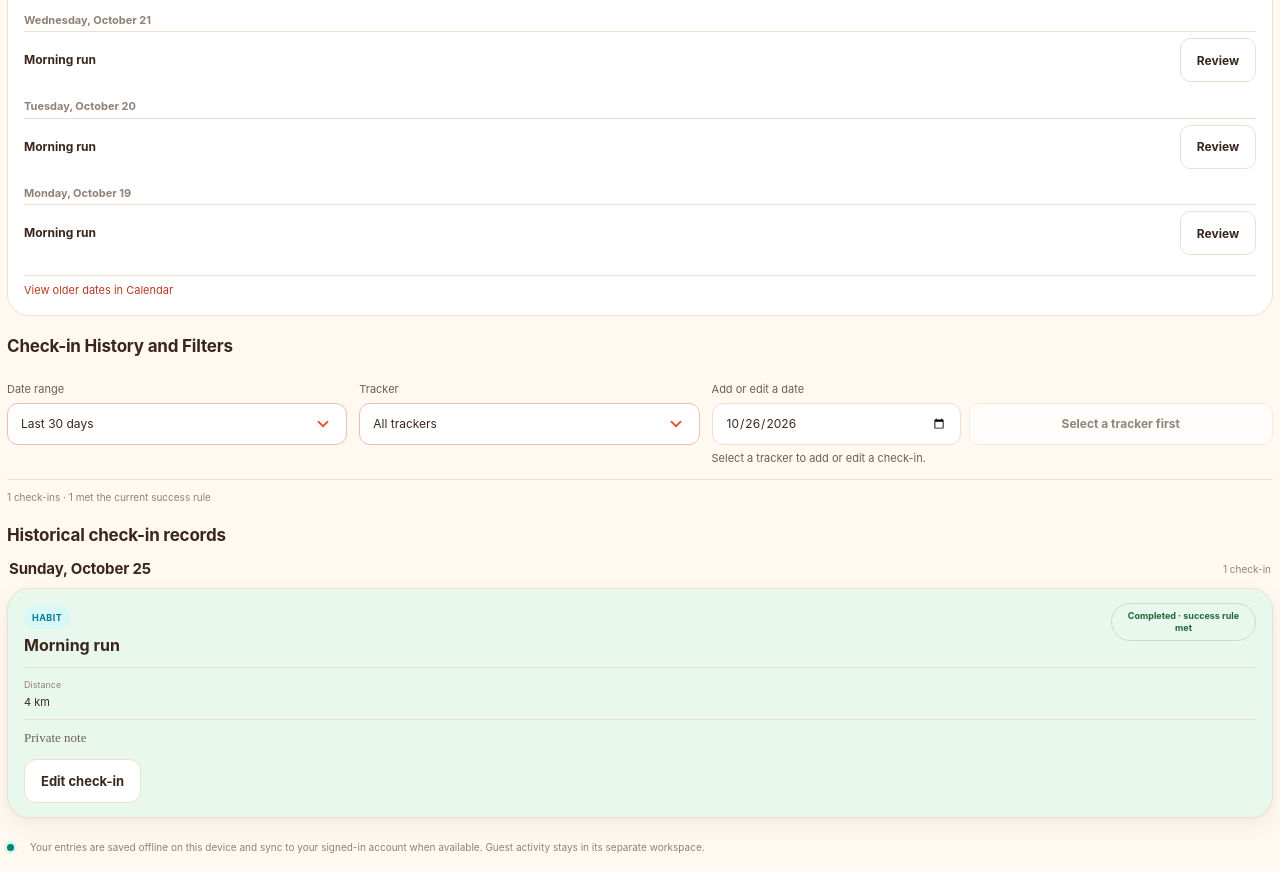
Test case: local check-in history › requires confirmation to clear history and restores the date to the missing review without exposing values or notes
(page scrolled)
Click the button with aria-label "Edit check-in for" at (83, 781), box x1=24 y1=759 x2=141 y2=803
(page scrolled)
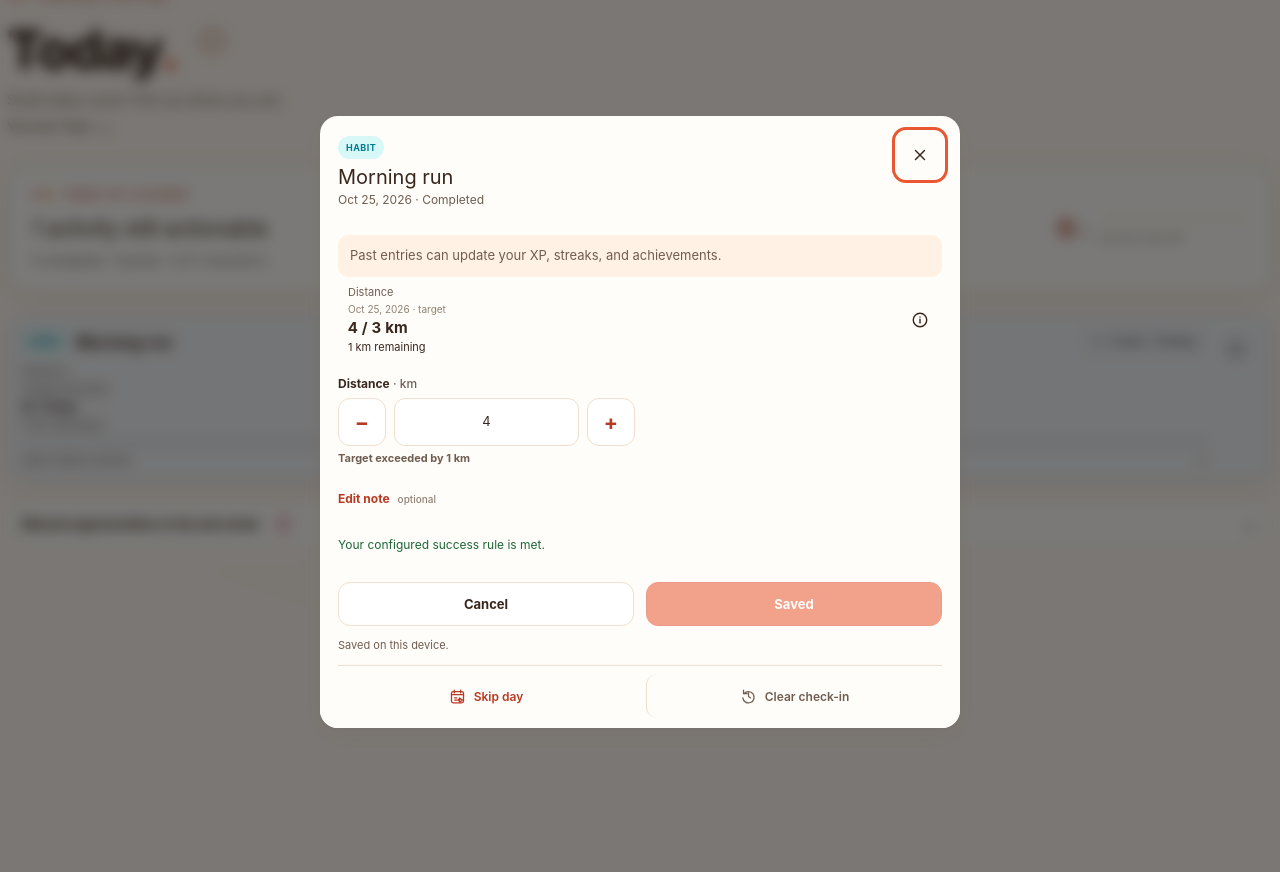
Click the button "Clear check-in" at (794, 696), box x1=646 y1=674 x2=942 y2=718
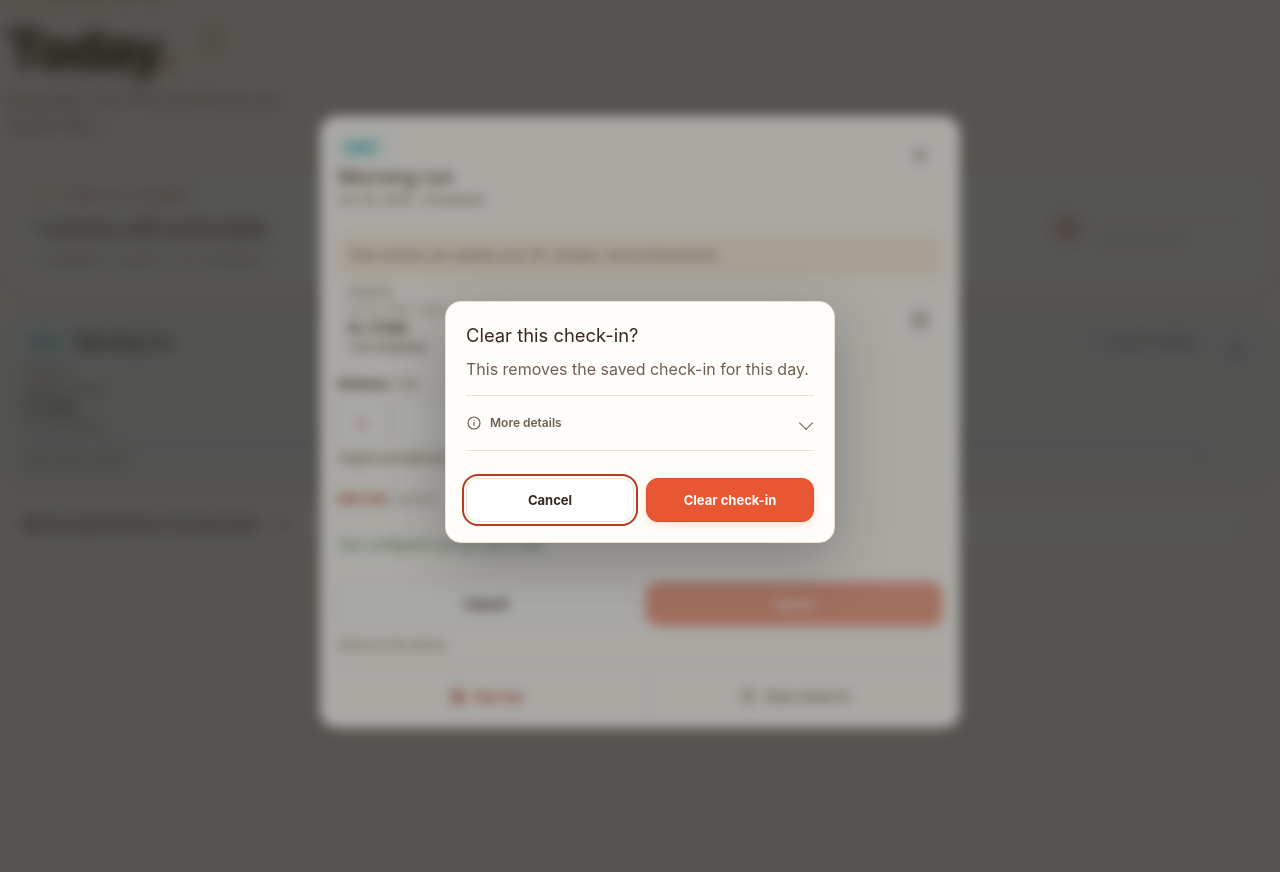
Result: the dialog "Clear this check-in?" is shown at x1=445 y1=301 x2=835 y2=543
Click the button "Cancel" at (550, 500), box x1=466 y1=478 x2=634 y2=522
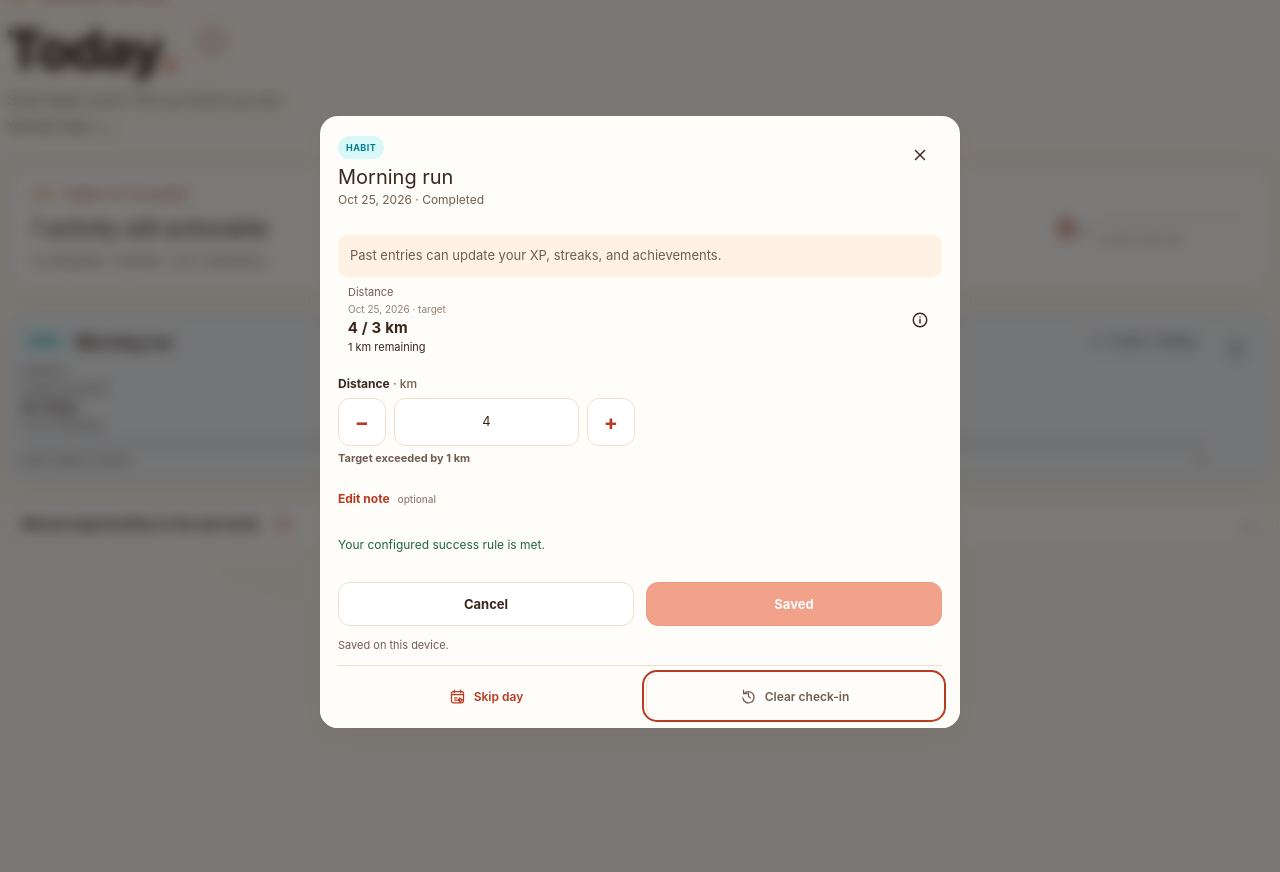
Click the button "Clear check-in" at (794, 696), box x1=646 y1=674 x2=942 y2=718
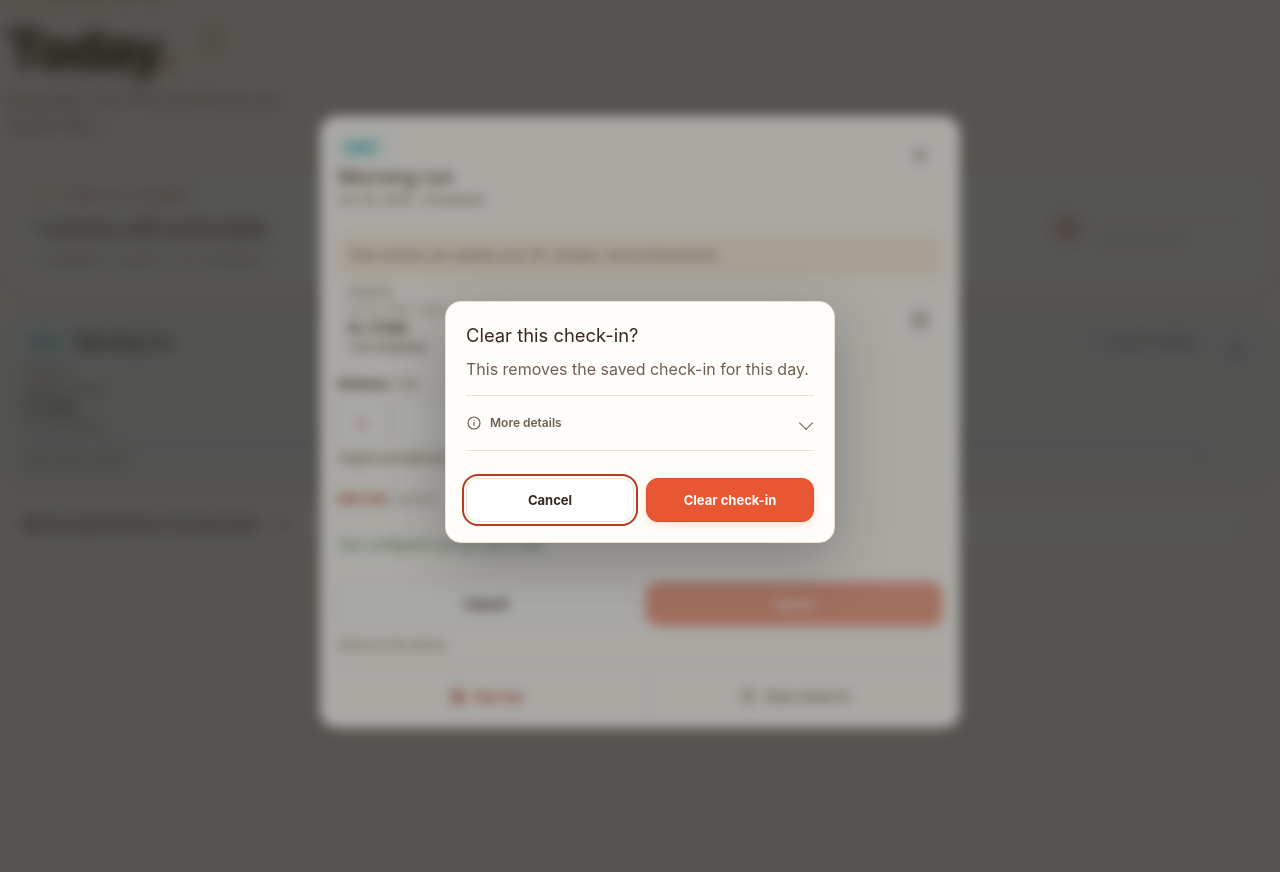
Click the button "Clear check-in" at (730, 500), box x1=646 y1=478 x2=814 y2=522
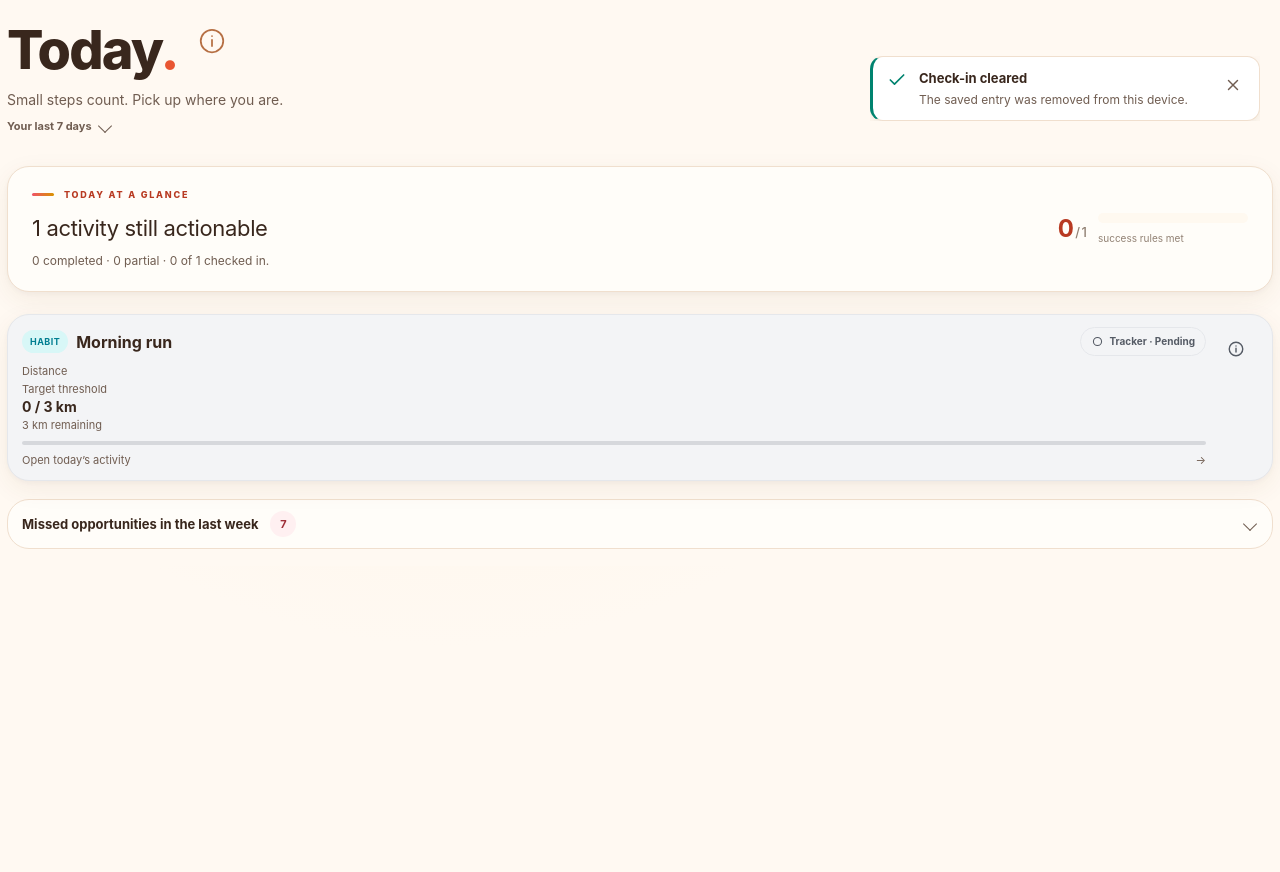
Result: the message "Check-in cleared" is shown at x1=870 y1=56 x2=1260 y2=121
Result: the text "Private note" is gone
